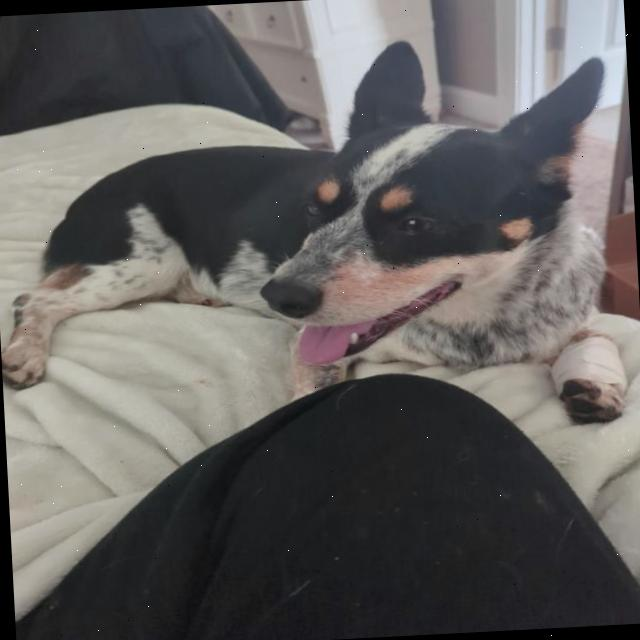corgi_dog: (232, 19, 628, 387)
